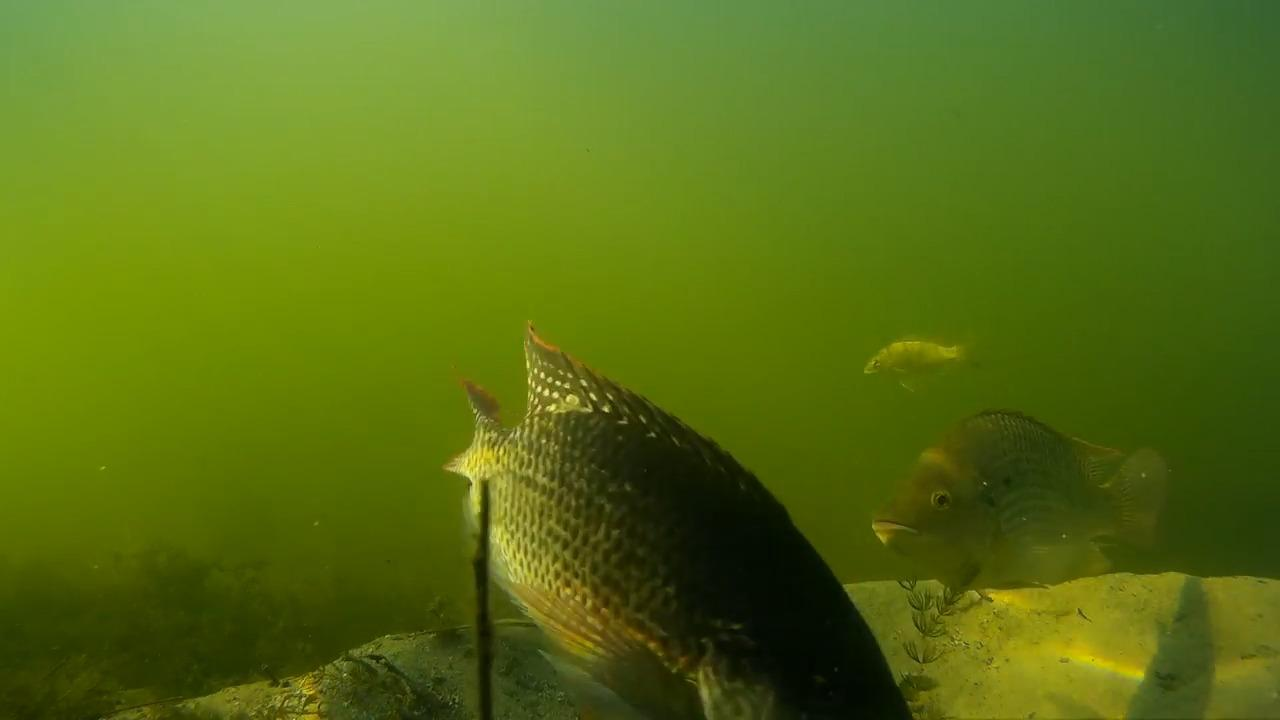Tilapia: (441, 322, 904, 720), (868, 408, 1175, 580), (853, 308, 996, 390)
